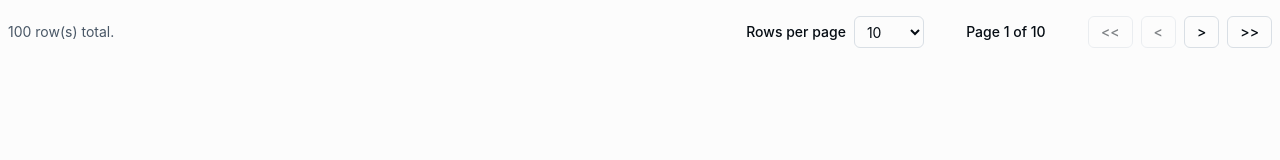
Test: TablePagination › page size selection › resets to first page when page size changes
Go to page 3
Click the button ">" at (1202, 32), box [1184,16,1219,48]
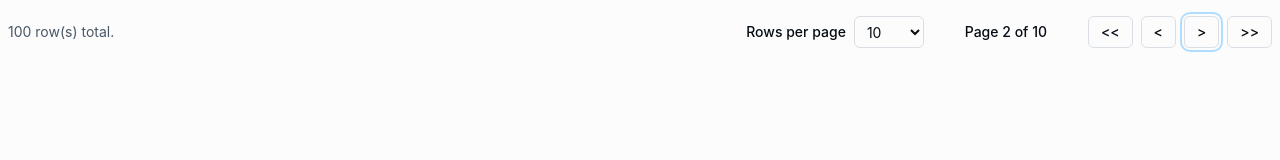
Click the button ">" at (1202, 32), box [1184,16,1219,48]
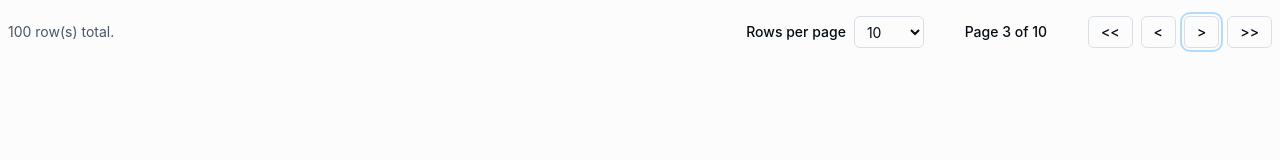
Expected: the text "Page 3 of 10" is shown, [965,23,1047,40]
Change page size
Select "50" in the dropdown at (889, 32), box [854,16,924,48]
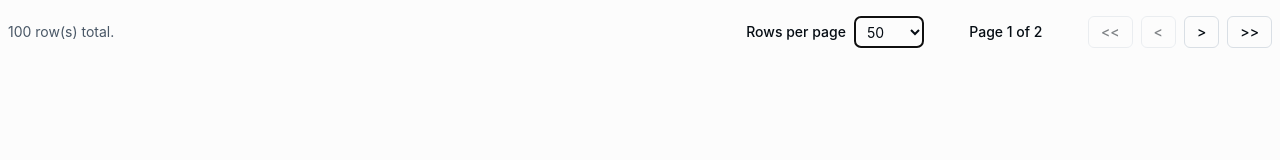
Expected: the text "Page 1 of 2" is shown, [969,23,1042,40]
